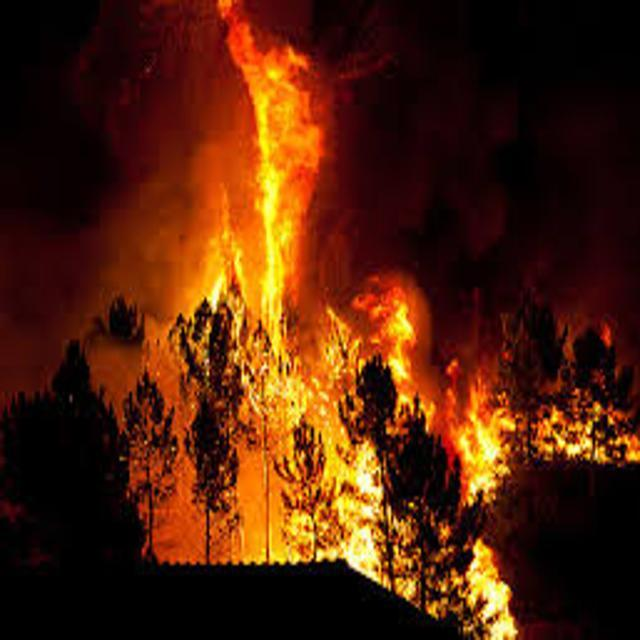Fire: (208, 0, 314, 357), (226, 356, 390, 578), (392, 402, 520, 640), (350, 260, 424, 390)
Smoke: (0, 0, 192, 321)
